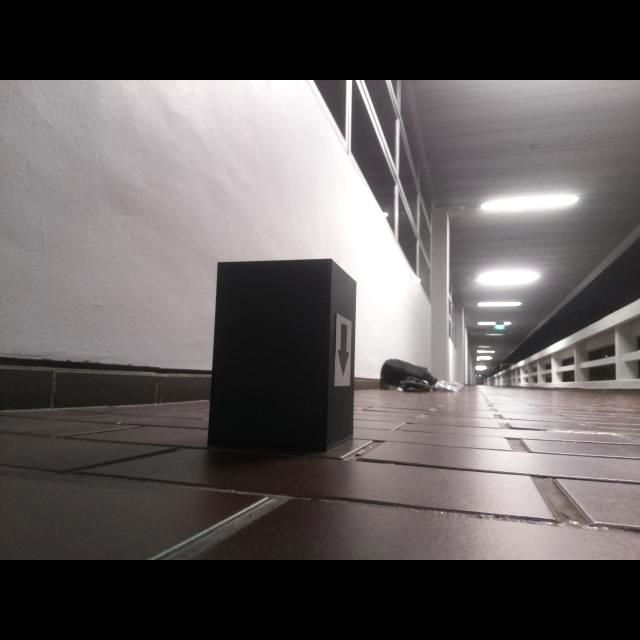DOWN: (337, 323, 350, 378)
